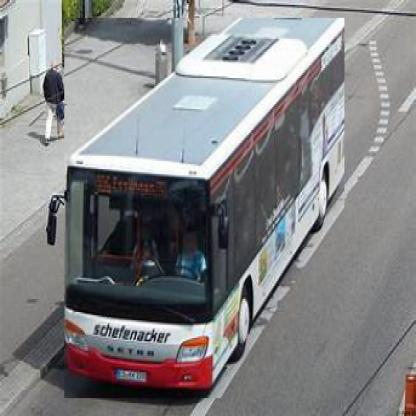bus: (65, 19, 347, 401)
